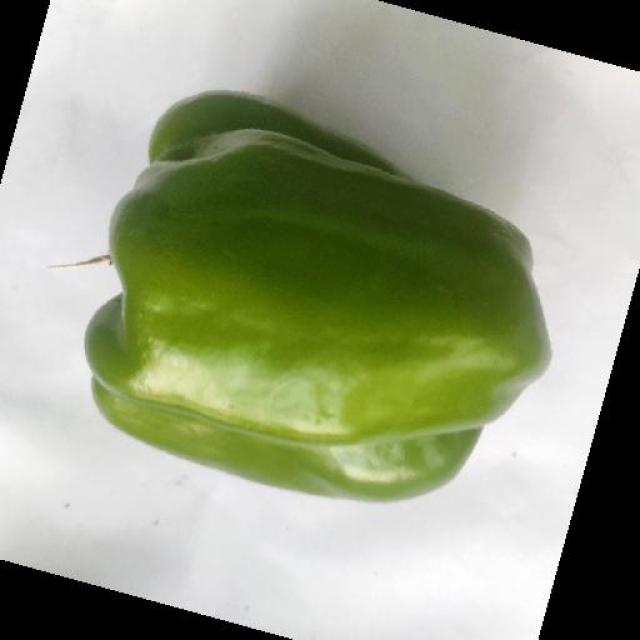Fresh_Capsicum: (99, 115, 557, 552)
